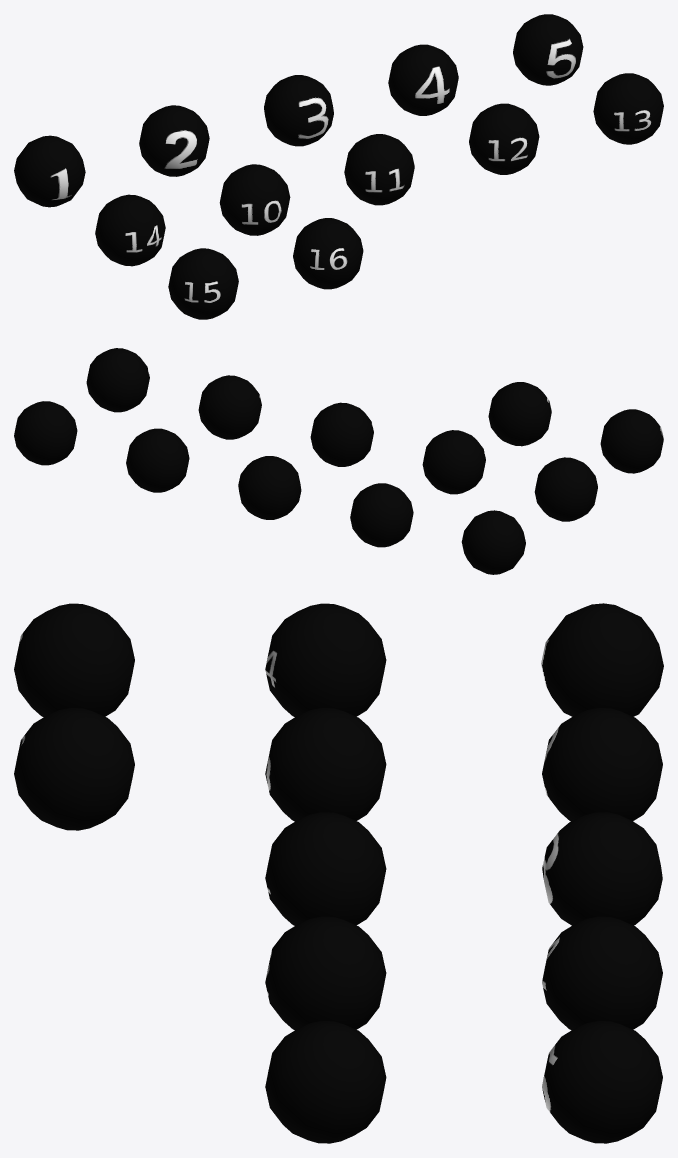
The model's file is options.fbx.
3 renders of one model, top to bottom at view 1: azimuth 30°, elevation 25°; view 2: azimuth 150°, elevation 25°; view 3: azimuth 270°, elevation 25°, orthographic. The views are drawn at different scales.
Visible parts, largest first — view 1: op3, op13, op15, op16, op2, op4, op12, op11, op10, op5, op14, op1; view 2: op2, op5, op4, op13, op15, op3, op12, op14, op10, op16, op11, op1; view 3: op5, op16, op13, op3, op4, op15, op12, op14, op2, op11, op10, op1.
Part boxes in pixels (bbox=[...]): op3: bbox=[264, 75, 333, 146]; op13: bbox=[593, 73, 663, 144]; op15: bbox=[168, 248, 238, 319]; op16: bbox=[293, 218, 363, 289]; op2: bbox=[139, 105, 209, 176]; op4: bbox=[388, 44, 458, 115]; op12: bbox=[469, 103, 539, 174]; op11: bbox=[344, 134, 414, 205]; op10: bbox=[219, 164, 290, 235]; op5: bbox=[513, 14, 583, 85]; op14: bbox=[95, 194, 165, 266]; op1: bbox=[14, 135, 85, 207]; op2: bbox=[350, 483, 413, 547]; op5: bbox=[14, 401, 77, 465]; op4: bbox=[126, 428, 189, 492]; op13: bbox=[86, 348, 149, 412]; op15: bbox=[600, 409, 663, 473]; op3: bbox=[238, 456, 301, 519]; op12: bbox=[198, 375, 261, 439]; op14: bbox=[534, 457, 597, 521]; op10: bbox=[422, 430, 485, 494]; op16: bbox=[488, 382, 551, 446]; op11: bbox=[310, 402, 373, 466]; op1: bbox=[461, 510, 525, 574]; op5: bbox=[542, 1021, 662, 1143]; op16: bbox=[14, 708, 134, 830]; op13: bbox=[265, 1021, 386, 1143]; op3: bbox=[542, 812, 662, 925]; op4: bbox=[542, 916, 662, 1030]; op15: bbox=[14, 603, 134, 717]; op12: bbox=[265, 916, 386, 1029]; op14: bbox=[265, 603, 386, 716]; op2: bbox=[542, 708, 662, 821]; op11: bbox=[265, 812, 386, 925]; op10: bbox=[265, 708, 386, 821]; op1: bbox=[541, 603, 663, 716].
Bounding box in the file's own units: 561 × 62.25 × 329.
1 material, 1 textured.
